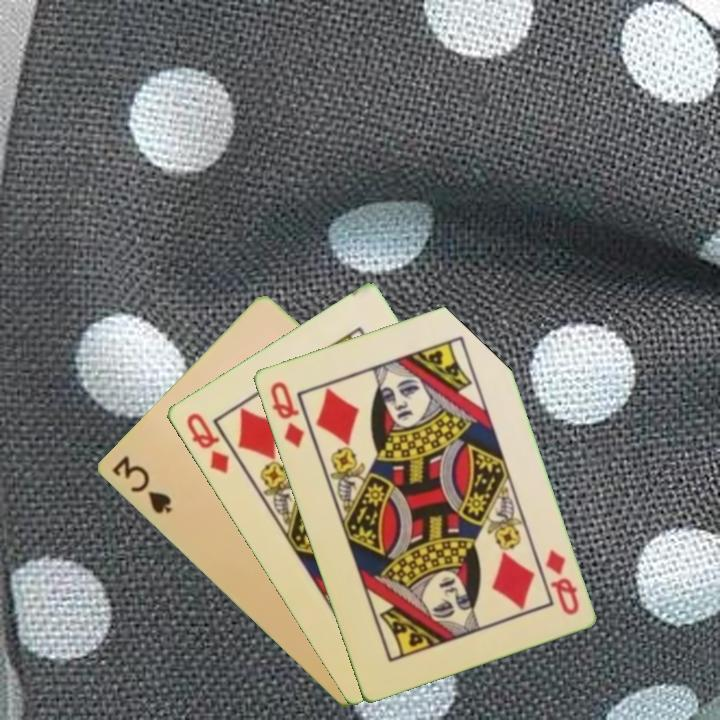3s: (108, 452, 175, 517)
Qd: (182, 409, 232, 477), (266, 377, 307, 451), (541, 545, 581, 618)
